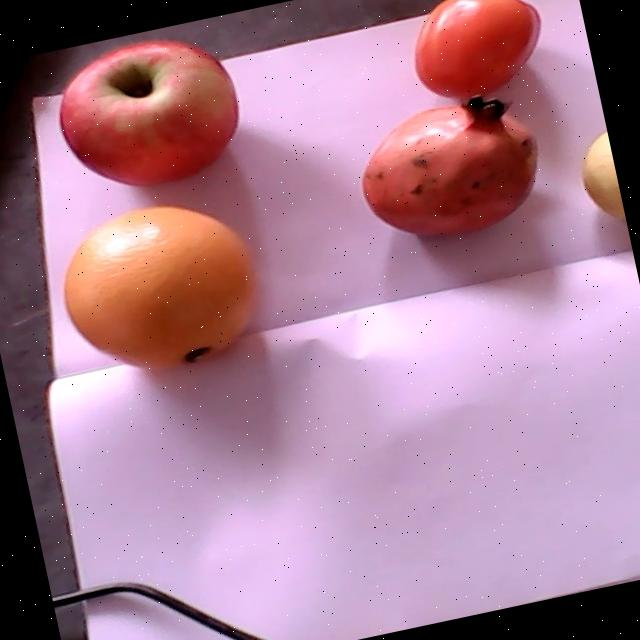apple: (61, 40, 237, 185)
lemon: (585, 130, 625, 220)
orange: (65, 205, 255, 367)
pomegranate: (362, 93, 539, 234)
tomato: (416, 0, 539, 97)
